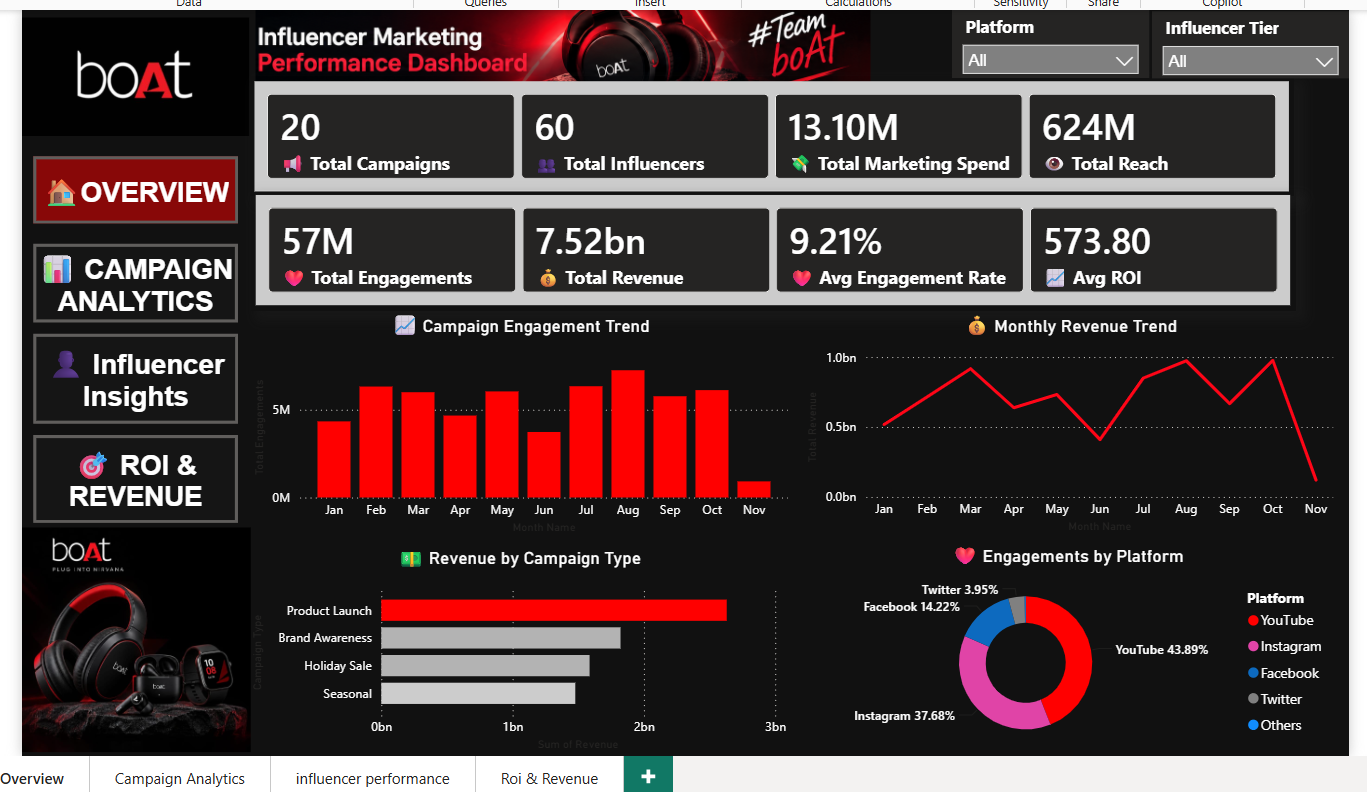

The page's visual inventory and layout, read from the dashboard file:
{"tool":"powerbi","page":{"name":"Overview","canvas":[1280,720],"ordinal":0},"visuals":[{"type":"image","box":[108.6,0,827.1,80],"z":0},{"type":"image","box":[0,0,219.6,129.1],"z":1000},{"type":"cardVisual","fields":{"Data":["Fact_CampaignPerformance.Total Campaigns","Fact_CampaignPerformance.Total Influencers","Fact_CampaignPerformance.Total Marketing Spend","Fact_CampaignPerformance.Total Reach"]},"box":[219.6,64.5,1008,116],"z":3000},{"type":"cardVisual","fields":{"Data":["Fact_CampaignPerformance.Total Engagements","Fact_CampaignPerformance.Total Revenue","Fact_CampaignPerformance.Avg Engagement Rate","Fact_CampaignPerformance.Avg ROI"]},"box":[220.9,174.3,1008.6,116.6],"z":4000},{"type":"actionButton","box":[10.9,141.2,197.9,65.1],"z":5000},{"type":"actionButton","box":[11,225,197.6,76],"z":6000},{"type":"actionButton","box":[10.9,312.5,197.9,86.9],"z":7000},{"type":"actionButton","box":[11,410.3,197.6,85.1],"z":8000},{"type":"clusteredColumnChart","title":"📈 Campaign Engagement Trend","fields":{"Category":["Dim_Date.Month Name"],"Y":["Fact_CampaignPerformance.Total Engagements"]},"box":[218.4,290.8,526,219.6],"z":9000},{"type":"clusteredBarChart","title":"💵 Revenue by Campaign Type","fields":{"Category":["Dim_Campaign.Campaign Type"],"Y":["Sum(Fact_CampaignPerformance.Revenue)"]},"box":[216.8,514.6,526,205],"z":10000},{"type":"donutChart","title":"❤️ Engagements by Platform","fields":{"Category":["Dim_Influencer.Platform"],"Y":["Sum(Fact_CampaignPerformance.Engagements)"]},"box":[750.6,513.2,518,204.5],"z":11000},{"type":"slicer","fields":{"Values":["Dim_Influencer.Platform"]},"box":[897.4,0,190,65.9],"z":12000},{"type":"slicer","fields":{"Values":["Dim_Influencer.Influencer Tier"]},"box":[1090.9,1.4,190,65],"z":13000},{"type":"lineChart","title":"💰 Monthly Revenue Trend","fields":{"Category":["Dim_Date.Month Name"],"Y":["Fact_CampaignPerformance.Total Revenue"]},"box":[752.8,290.8,518,219],"z":14000},{"type":"image","box":[0,496.7,220.9,222.3],"z":15000}]}

Visuals, with their boxes on the page's 1280x720 design canvas (x1, y1, x2, y2). These are canvas units, not pixel positions in the 1367x792 screenshot, which may show the page scaled, cropped or inside an application window:
image: [109, 0, 936, 80]
image: [0, 0, 220, 129]
cardVisual - Fact_CampaignPerformance.Total Campaigns x Fact_CampaignPerformance.Total Influencers: [220, 64, 1228, 180]
cardVisual - Fact_CampaignPerformance.Total Engagements x Fact_CampaignPerformance.Total Revenue: [221, 174, 1230, 291]
actionButton: [11, 141, 209, 206]
actionButton: [11, 225, 209, 301]
actionButton: [11, 312, 209, 399]
actionButton: [11, 410, 209, 495]
"📈 Campaign Engagement Trend" clusteredColumnChart: [218, 291, 744, 510]
"💵 Revenue by Campaign Type" clusteredBarChart: [217, 515, 743, 720]
"❤️ Engagements by Platform" donutChart: [751, 513, 1269, 718]
slicer - Dim_Influencer.Platform: [897, 0, 1087, 66]
slicer - Dim_Influencer.Influencer Tier: [1091, 1, 1281, 66]
"💰 Monthly Revenue Trend" lineChart: [753, 291, 1271, 510]
image: [0, 497, 221, 719]
